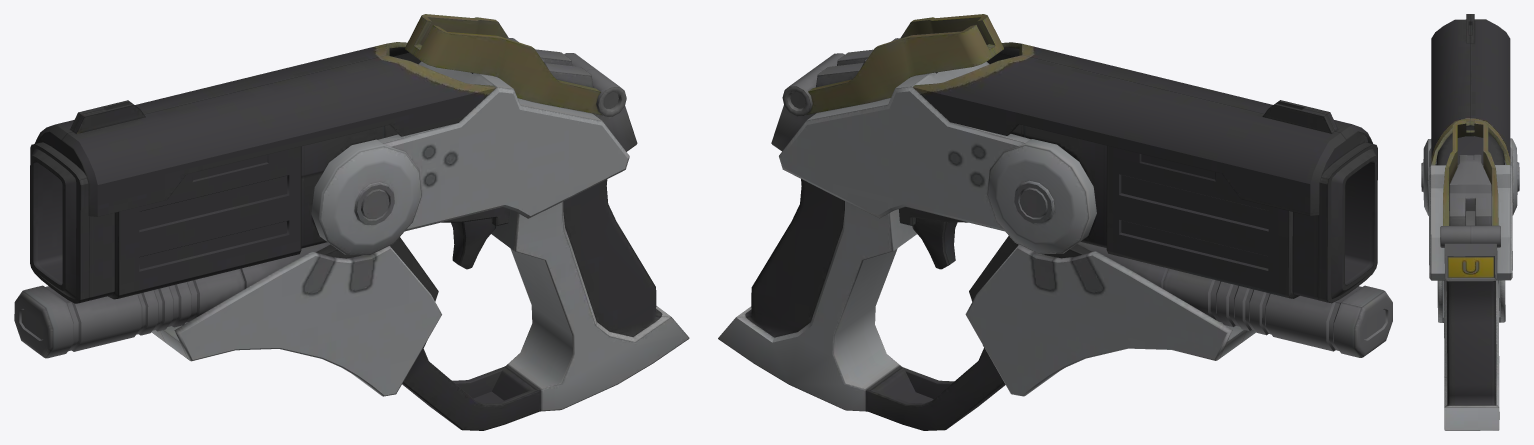
Rendered from mercys_caduceus_blaster.glb.
The picture shows the model from 3 angles, left to right: view 1: azimuth 30°, elevation 25°; view 2: azimuth 150°, elevation 25°; view 3: azimuth 270°, elevation 25°; orthographic projection. The views are drawn at different scales.
Parts seen in each view (by area): view 1: Pistol_20 - Default_0; view 2: Pistol_20 - Default_0; view 3: Pistol_20 - Default_0.
Boxes of the visible parts, x1,y1,x2,y2 form: Pistol_20 - Default_0: (14, 14, 689, 430); Pistol_20 - Default_0: (718, 14, 1392, 430); Pistol_20 - Default_0: (1421, 14, 1519, 430).
Bounding box in the file's own units: 26.24 × 15.98 × 5.38.
Materials: 1 (1 with a texture image).
